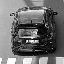mobil: (9, 5, 58, 55)
